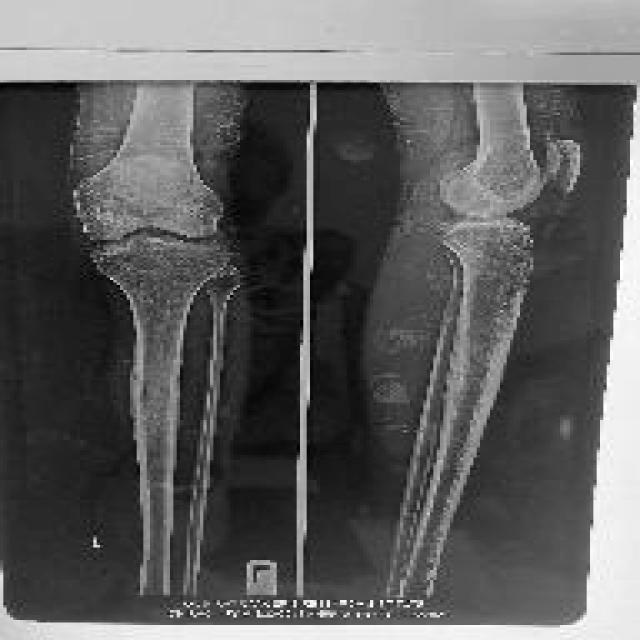bone-cancer: (105, 235, 218, 323), (503, 221, 533, 309)
